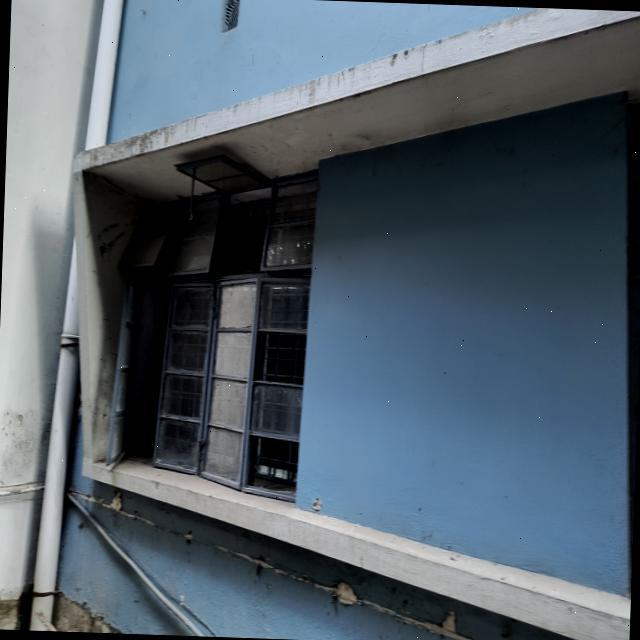Broken window pane: (107, 168, 317, 503)
